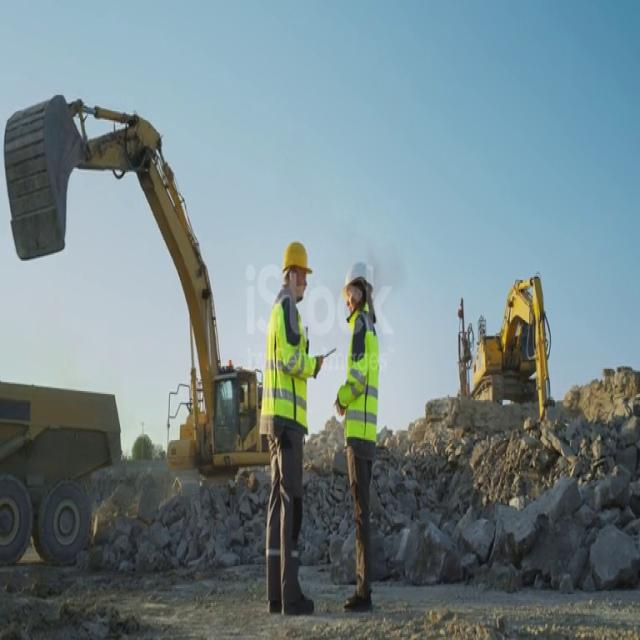capacete: (281, 231, 315, 281), (338, 257, 378, 299)
